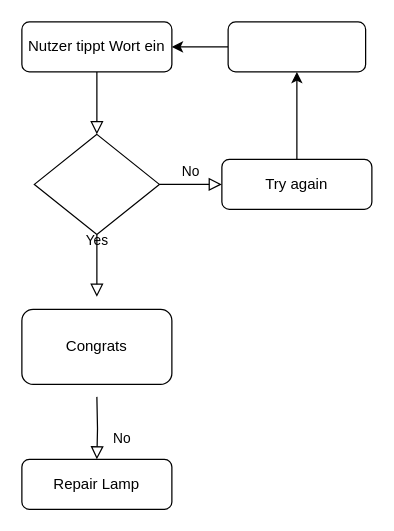
Some shapes in this 394 by 531 pixel diagram are drawn without their labels. The shapes that lost their labels are listed below. From the top down, each one's box as (x1, y1, x2, y2) in pixels, then its label:
(227, 21, 366, 72): Wort eingeben
(33, 133, 159, 234): Korrekt
